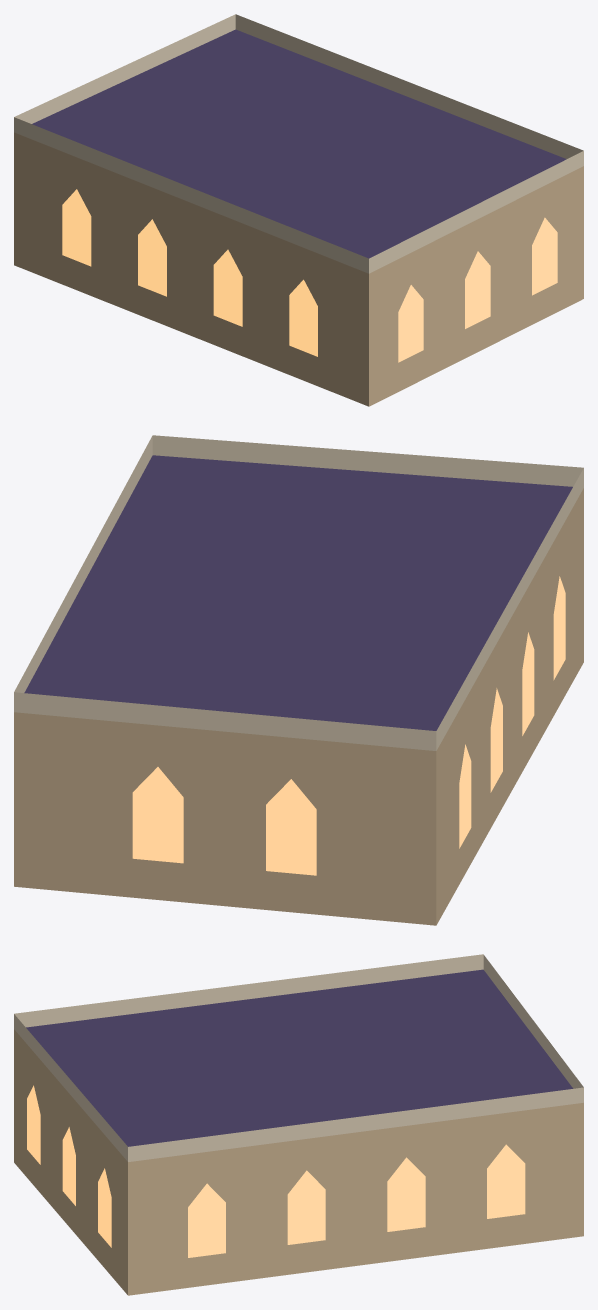
3 views of the same model, one above another, from view 1: azimuth 30°, elevation 25°; view 2: azimuth 150°, elevation 25°; view 3: azimuth 270°, elevation 25° (orthographic). The views are drawn at different scales.
Visible parts, largest first — view 1: campus/b-030-0; view 2: campus/b-030-0; view 3: campus/b-030-0.
Part boxes in pixels (<box>): campus/b-030-0: <box>14,14,583,406</box>; campus/b-030-0: <box>14,435,583,925</box>; campus/b-030-0: <box>14,954,583,1295</box>.
Bounding box in the file's own units: 14.85 × 5.35 × 18.57.
